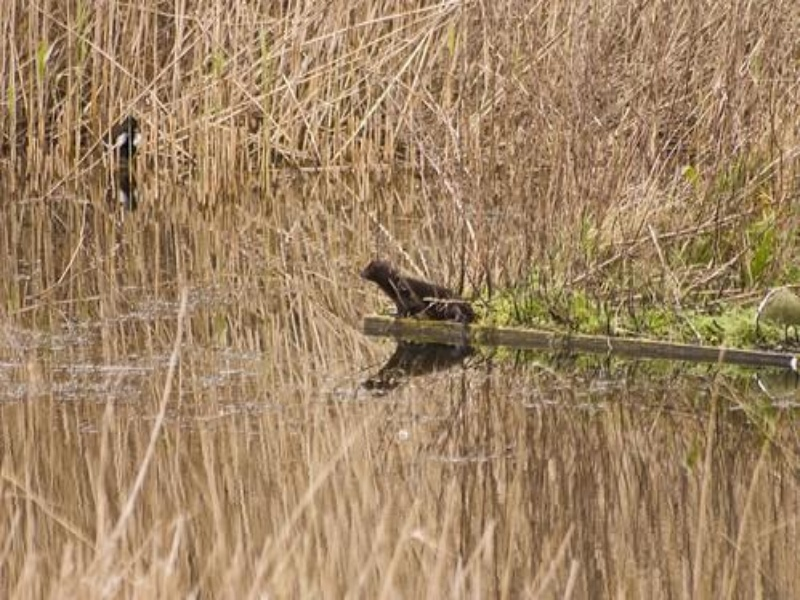minkish: (358, 259, 483, 326)
